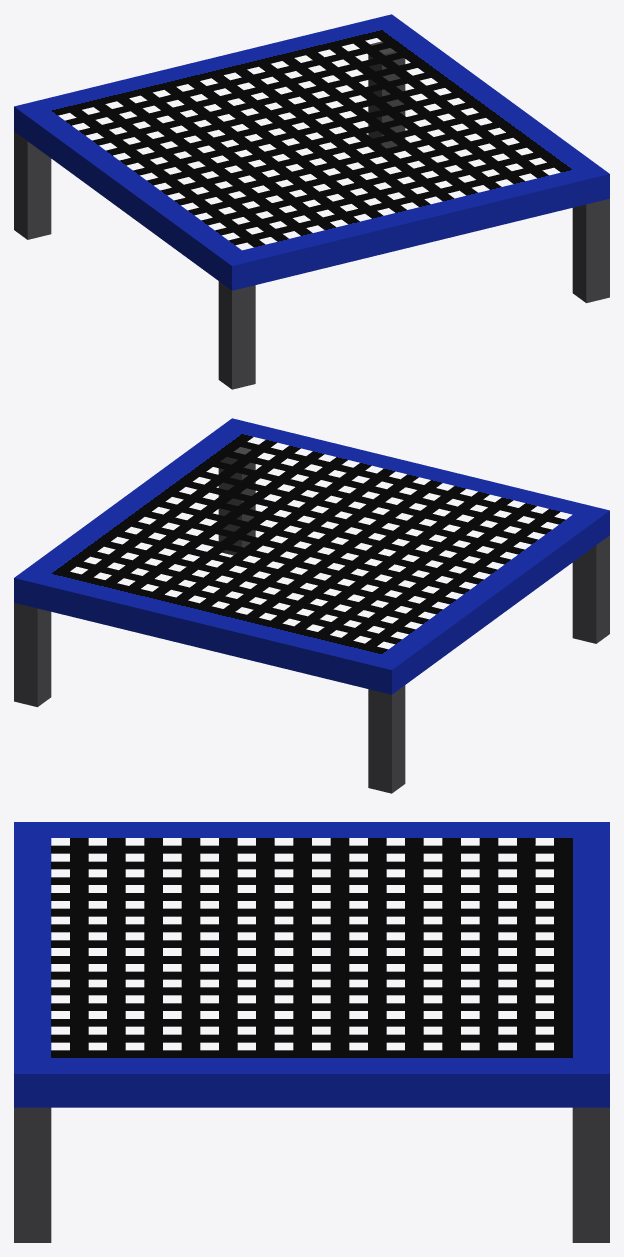
File: trampoline.gltf
The picture shows the model from 3 angles, top to bottom: view 1: azimuth 30°, elevation 25°; view 2: azimuth 150°, elevation 25°; view 3: azimuth 270°, elevation 25°; orthographic projection. The views are drawn at different scales.
Parts seen in each view (by area): view 1: cube (×5); view 2: cube (×5); view 3: cube (×3).
Boxes of the visible parts, x1,y1,x2,y2 form: cube (×5): [14, 14, 609, 389]; cube (×5): [14, 418, 609, 793]; cube (×3): [14, 822, 609, 1242].
Bounding box in the file's own units: 1 × 0.3125 × 1.
Materials: 1 (1 with a texture image).
